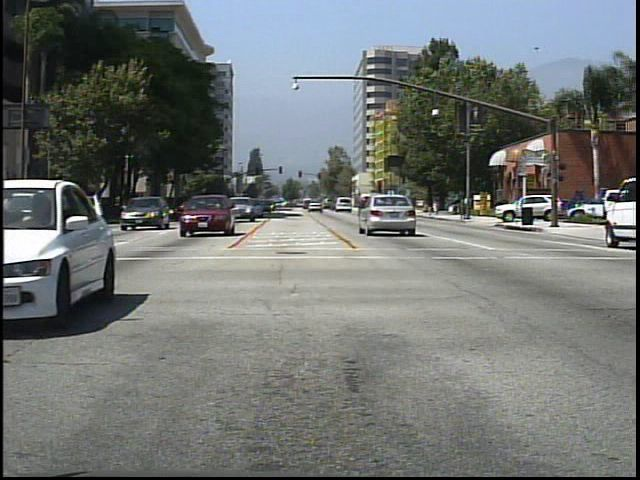person: (458, 190, 474, 222), (430, 190, 444, 216)
